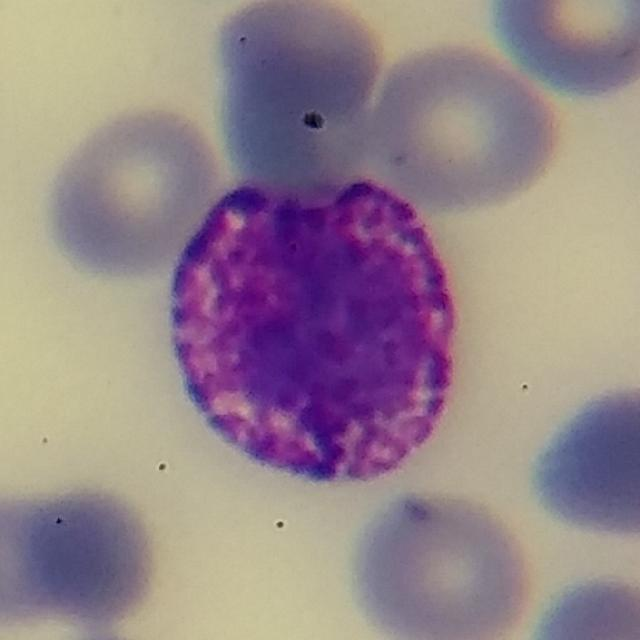baso: (165, 178, 459, 483)
